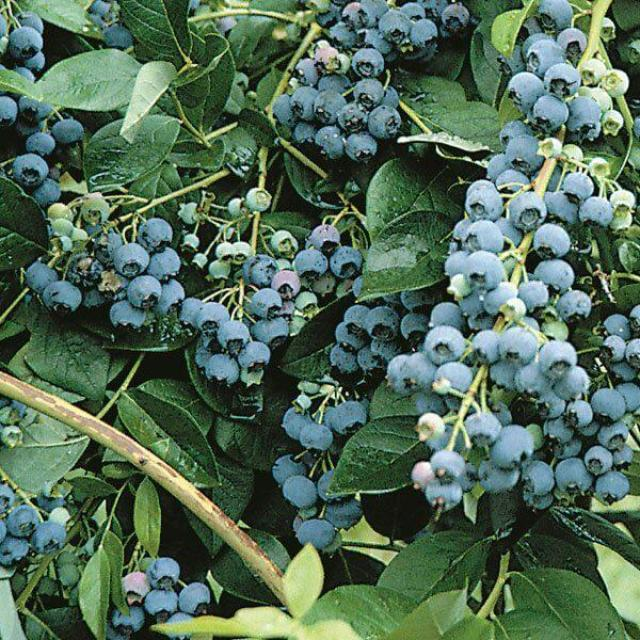BlueBerry - v1: (488, 421, 538, 474), (506, 188, 552, 235), (458, 408, 506, 453), (532, 255, 580, 298), (552, 454, 596, 500), (424, 325, 469, 368), (513, 362, 558, 405), (467, 177, 507, 223), (462, 249, 504, 292), (421, 478, 466, 518), (505, 133, 546, 176), (173, 575, 213, 619), (385, 355, 424, 400), (567, 94, 605, 140), (478, 460, 519, 502), (543, 59, 584, 101), (138, 214, 178, 257), (532, 219, 572, 262), (537, 339, 580, 379), (433, 357, 476, 397), (480, 278, 522, 318), (499, 325, 541, 365), (550, 363, 592, 403), (146, 246, 185, 289), (292, 518, 344, 550), (426, 300, 476, 333), (320, 496, 367, 531), (9, 151, 49, 192), (554, 287, 596, 326), (590, 384, 629, 426), (590, 467, 632, 506), (365, 305, 405, 345), (468, 327, 508, 367), (505, 70, 545, 110), (365, 101, 406, 140), (528, 36, 569, 75), (466, 221, 511, 256), (40, 280, 86, 314), (124, 274, 164, 313), (204, 353, 244, 392), (518, 460, 558, 499), (112, 238, 153, 276), (6, 23, 47, 61), (579, 193, 617, 233), (143, 587, 183, 625), (329, 399, 370, 436), (328, 240, 364, 282), (28, 520, 72, 554), (312, 87, 350, 126), (313, 124, 352, 162), (485, 357, 523, 396), (530, 91, 570, 128), (247, 287, 287, 324), (156, 277, 190, 320), (108, 301, 151, 335), (376, 7, 414, 45), (242, 250, 280, 288), (215, 319, 254, 356), (278, 404, 315, 443), (429, 447, 468, 484), (280, 475, 319, 512), (270, 452, 310, 488), (333, 321, 376, 354), (412, 411, 449, 448), (336, 99, 372, 137), (291, 246, 329, 282), (235, 339, 274, 374), (117, 571, 156, 606), (288, 84, 322, 124), (536, 1, 579, 32), (6, 503, 44, 538), (546, 186, 580, 225), (297, 420, 336, 454), (559, 396, 595, 432), (24, 259, 59, 296), (515, 280, 553, 314), (600, 310, 634, 348), (105, 602, 148, 632), (49, 115, 89, 147), (193, 302, 233, 334), (560, 168, 595, 204), (255, 315, 291, 350), (78, 195, 116, 228), (0, 533, 32, 572), (270, 94, 304, 130), (148, 556, 182, 592), (557, 24, 590, 60), (598, 332, 630, 369), (436, 1, 474, 32), (402, 288, 441, 318), (266, 264, 300, 298), (311, 223, 344, 258), (409, 460, 444, 493), (400, 314, 436, 346), (584, 443, 616, 479), (596, 419, 630, 452), (351, 77, 385, 110), (30, 176, 65, 208), (344, 303, 374, 340), (408, 352, 438, 389), (442, 245, 471, 283), (500, 118, 534, 150), (326, 344, 360, 376), (356, 344, 390, 376), (102, 22, 136, 54), (532, 390, 566, 422), (22, 130, 59, 159), (353, 47, 385, 80), (346, 132, 380, 163), (600, 66, 632, 98), (608, 184, 639, 217), (408, 16, 439, 49), (608, 358, 640, 389), (356, 0, 391, 28), (372, 336, 408, 363), (317, 69, 353, 96), (330, 22, 360, 54), (294, 58, 324, 90), (542, 417, 575, 446), (178, 296, 206, 330), (13, 9, 48, 36), (613, 380, 640, 415), (20, 95, 51, 125), (595, 108, 626, 138), (462, 291, 493, 321), (495, 169, 535, 192), (586, 154, 616, 184), (175, 198, 205, 228), (608, 441, 635, 474), (534, 133, 564, 162), (268, 226, 298, 254), (362, 28, 392, 56), (315, 470, 339, 504), (486, 153, 516, 180), (0, 90, 21, 128), (397, 2, 429, 26), (19, 51, 51, 75), (341, 2, 365, 33), (381, 82, 404, 114), (325, 52, 352, 79), (0, 425, 28, 451), (244, 186, 273, 211), (84, 1, 118, 22), (448, 270, 469, 304), (525, 491, 559, 512), (214, 239, 240, 266), (581, 58, 608, 84), (562, 143, 586, 171), (231, 239, 255, 267), (0, 481, 18, 518), (224, 196, 251, 220), (48, 201, 76, 224), (0, 403, 22, 432), (208, 259, 233, 284), (293, 289, 318, 314), (11, 65, 38, 86), (50, 218, 75, 240), (625, 335, 640, 371), (626, 302, 640, 340), (180, 230, 203, 252), (192, 250, 210, 273), (352, 273, 366, 302)
